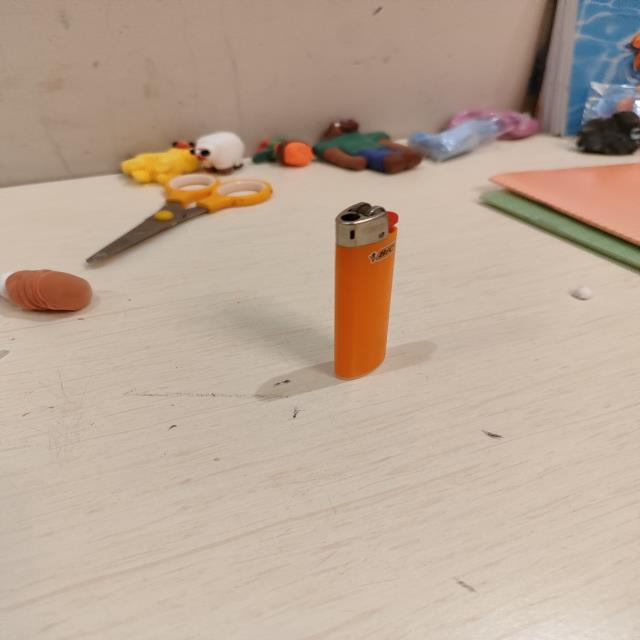lighter: (333, 202, 396, 379)
